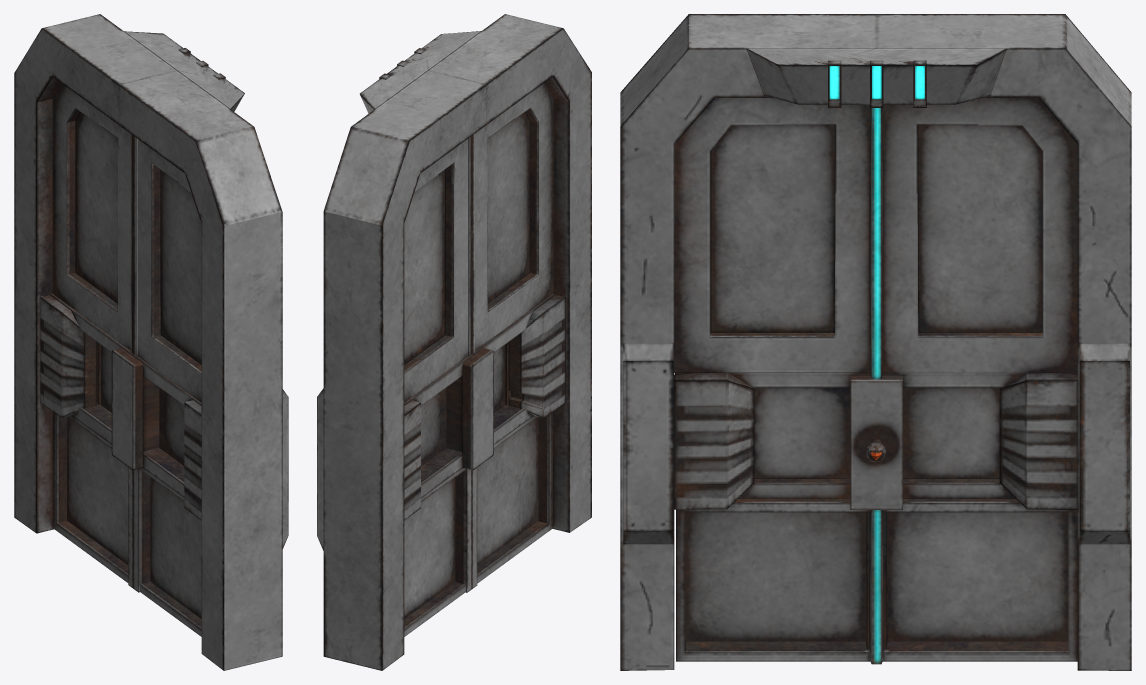
The model's file is porta.glb.
The picture shows the model from 3 angles, left to right: view 1: azimuth 30°, elevation 25°; view 2: azimuth 150°, elevation 25°; view 3: azimuth 270°, elevation 25°; orthographic projection. The views are drawn at different scales.
Parts seen in each view (by area): view 1: SM_Door_3_JFG; view 2: SM_Door_3_JFG; view 3: SM_Door_3_JFG.
Part boxes in pixels (<box>): SM_Door_3_JFG: <box>14,14,288,670</box>; SM_Door_3_JFG: <box>317,14,591,670</box>; SM_Door_3_JFG: <box>620,14,1131,670</box>.
Bounding box in the file's own units: 79.24 × 444 × 330.
1 material, 1 textured.
